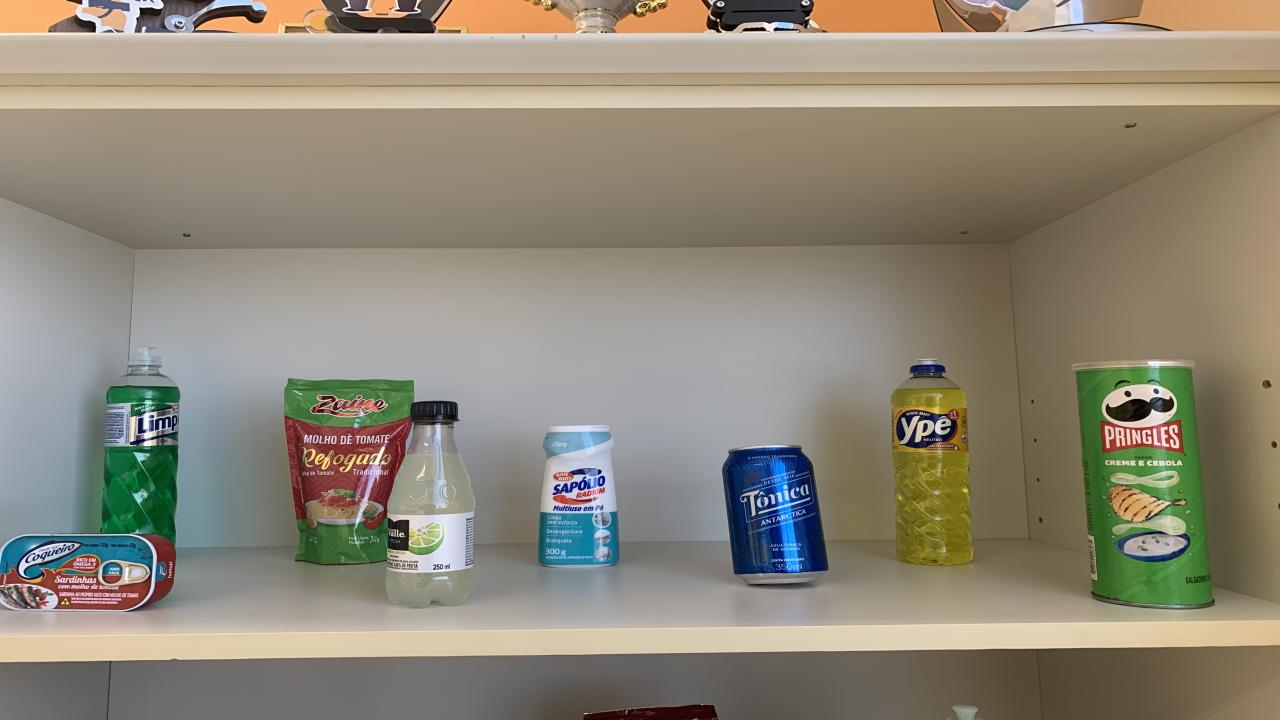Cleaner-Cleanup_Items: (538, 426, 620, 568)
Detergent-Cleanup_Items: (890, 358, 972, 564), (102, 347, 180, 544), (948, 705, 978, 720)
Pringles-Snacks: (1075, 360, 1212, 608)
Soda-Drinks: (385, 401, 475, 608)
Tomato_Sauce-Pantry_Items: (285, 379, 415, 564), (582, 705, 718, 720)
Tonic-Drinks: (722, 446, 828, 585)
Tuna_Can-Pantry_Items: (0, 534, 175, 611)
